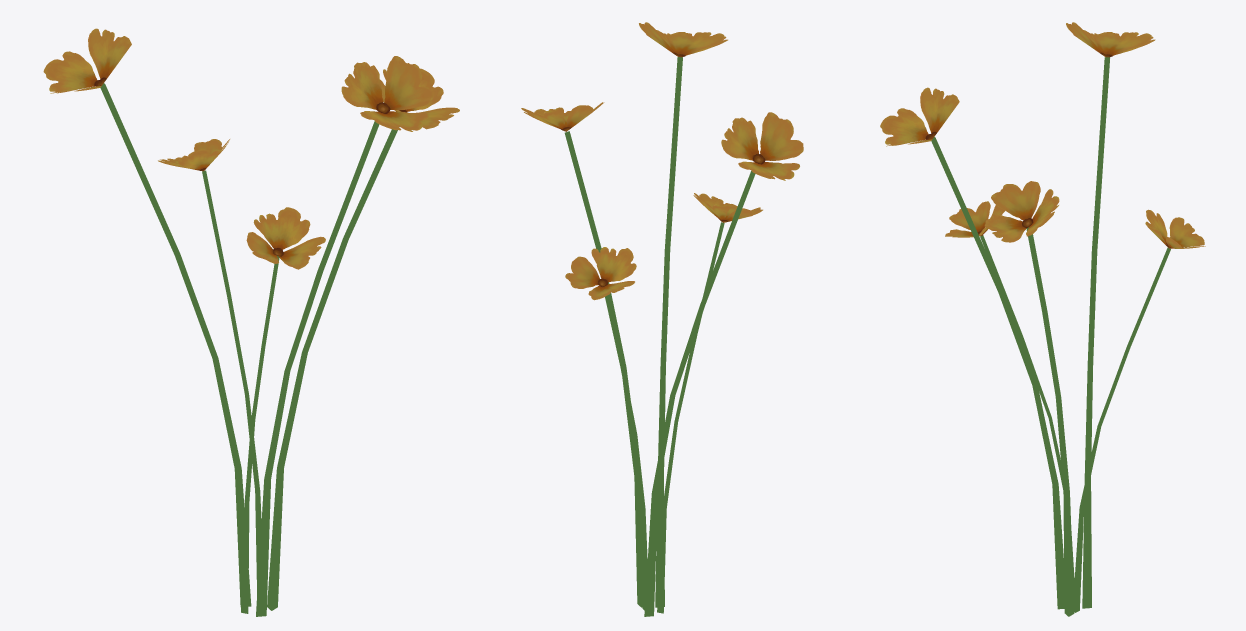
The model's file is SM_Flower_07_02.fbx.
3 views of the same model, side by side, from view 1: azimuth 30°, elevation 25°; view 2: azimuth 150°, elevation 25°; view 3: azimuth 270°, elevation 25° (orthographic). The views are drawn at different scales.
Visible parts, largest first — view 1: SM_Flower_07_02_LOD0; view 2: SM_Flower_07_02_LOD0; view 3: SM_Flower_07_02_LOD0.
Boxes of the visible parts, x1,y1,x2,y2 form: SM_Flower_07_02_LOD0: (43,28,459,616); SM_Flower_07_02_LOD0: (521,22,803,616); SM_Flower_07_02_LOD0: (880,22,1205,616).
Size of what is drawn, in the model's own units: 40.03 by 58.5 by 36.35.
